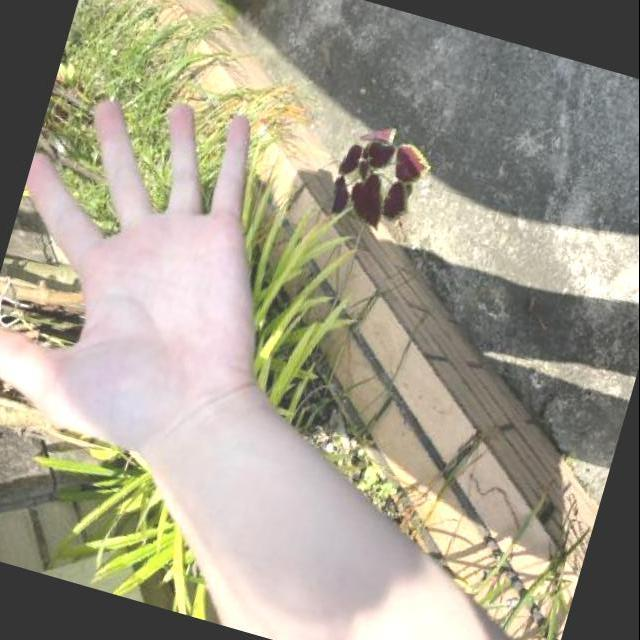hand: (0, 44, 347, 496)
